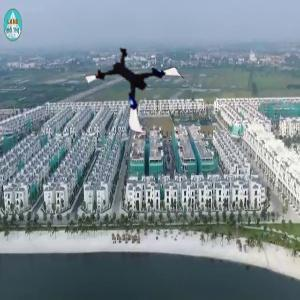drone: (96, 40, 183, 127)
